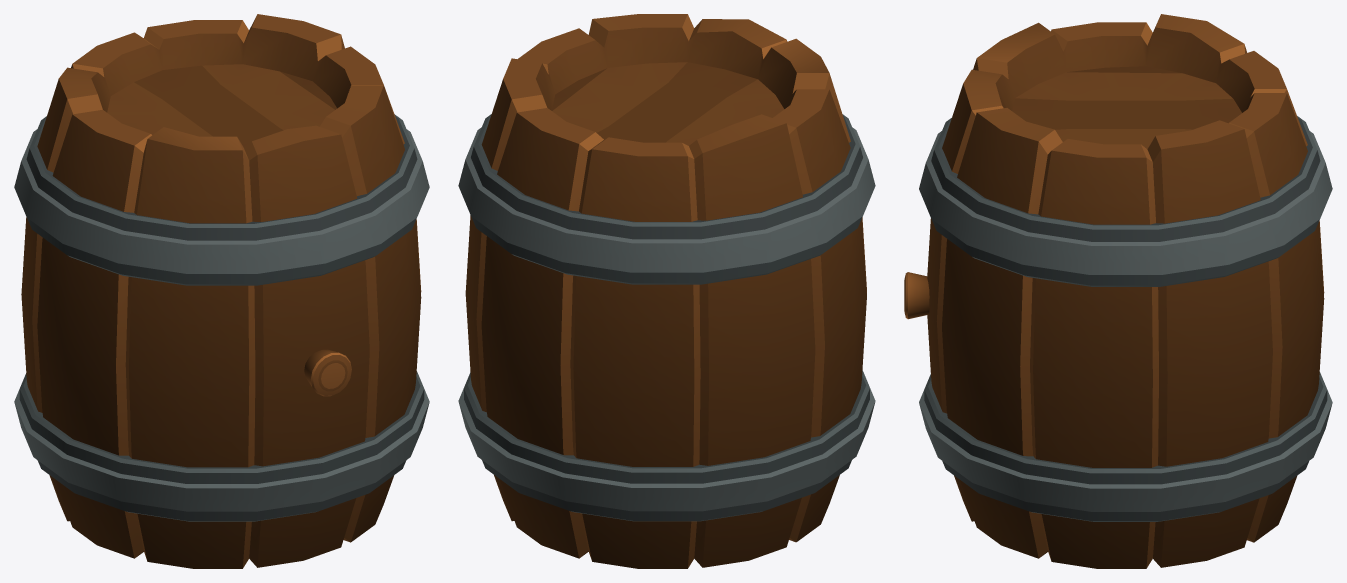
The model's file is Barrel-4.fbx.
3 renders of one model, left to right at view 1: azimuth 30°, elevation 25°; view 2: azimuth 150°, elevation 25°; view 3: azimuth 270°, elevation 25°, orthographic.
Parts seen in each view (by area): view 1: Barrel-4; view 2: Barrel-4; view 3: Barrel-4.
Boxes of the visible parts, bbox=[...] form: Barrel-4: bbox=[14, 14, 429, 568]; Barrel-4: bbox=[458, 14, 875, 568]; Barrel-4: bbox=[904, 14, 1332, 568].
Bounding box in the file's own units: 120 × 137 × 126.
